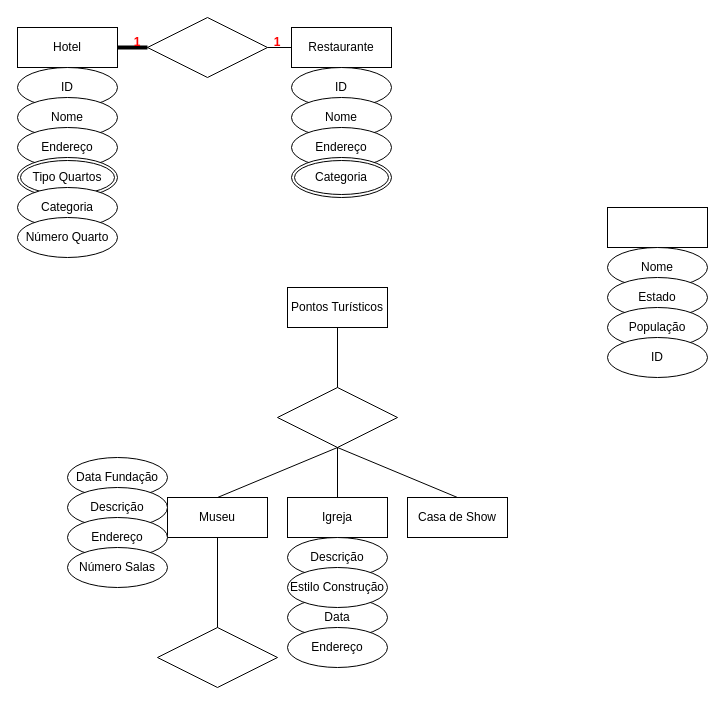
Some shapes in this 725 by 705 pixel diagram are drawn without their labels. Here are the shapes that lost their labels. From the top down, the centre of each, then its label:
the point at 207,47: Pertence
the point at 657,227: Cidade
the point at 337,417: Possui
the point at 217,657: Fundador
